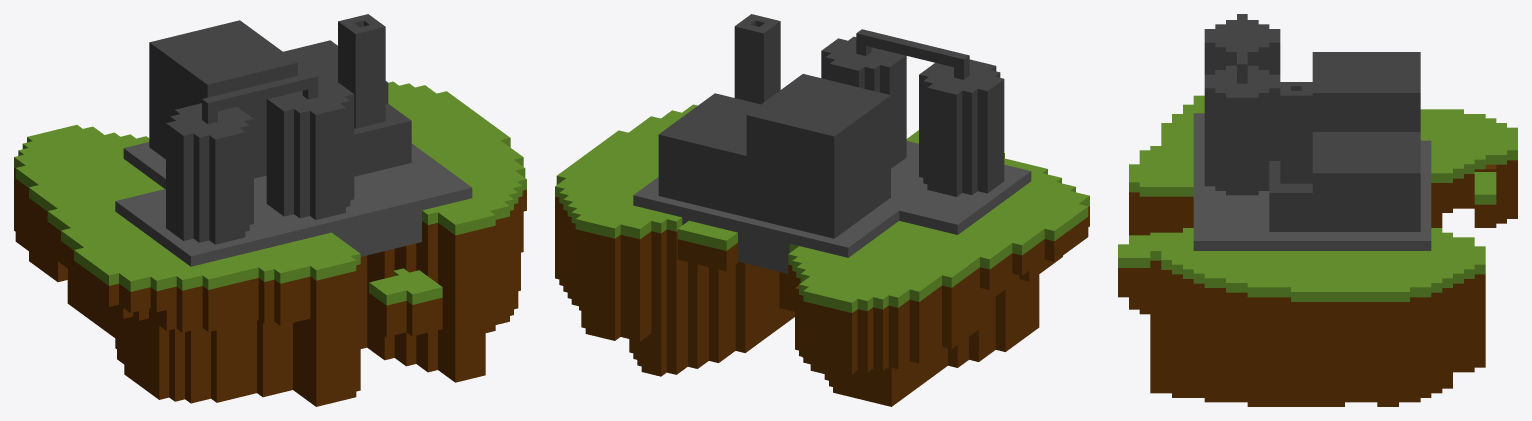
Rendered from factory1.obj.
The picture shows the model from 3 angles, left to right: view 1: azimuth 30°, elevation 25°; view 2: azimuth 150°, elevation 25°; view 3: azimuth 270°, elevation 25°; orthographic projection. The views are drawn at different scales.
Bounding box in the file's own units: 4.4 × 2.9 × 3.7.
1 material, 1 textured.
